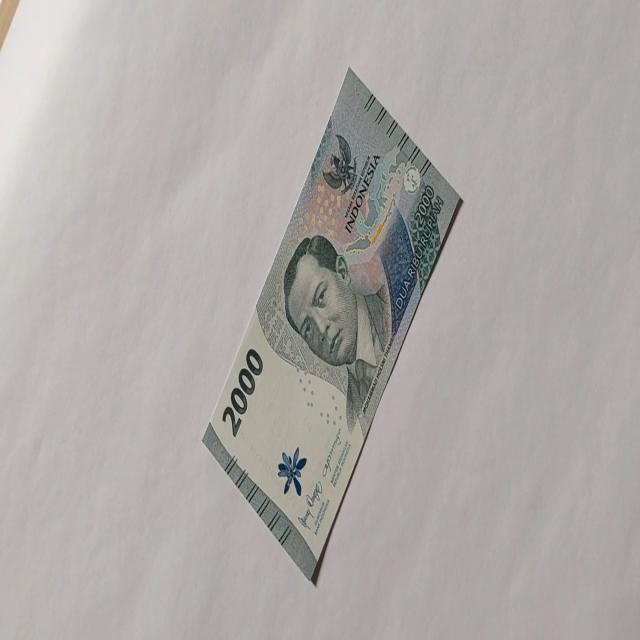dua ribu rupiah: (201, 65, 464, 582), (282, 232, 392, 434), (220, 346, 264, 438)
